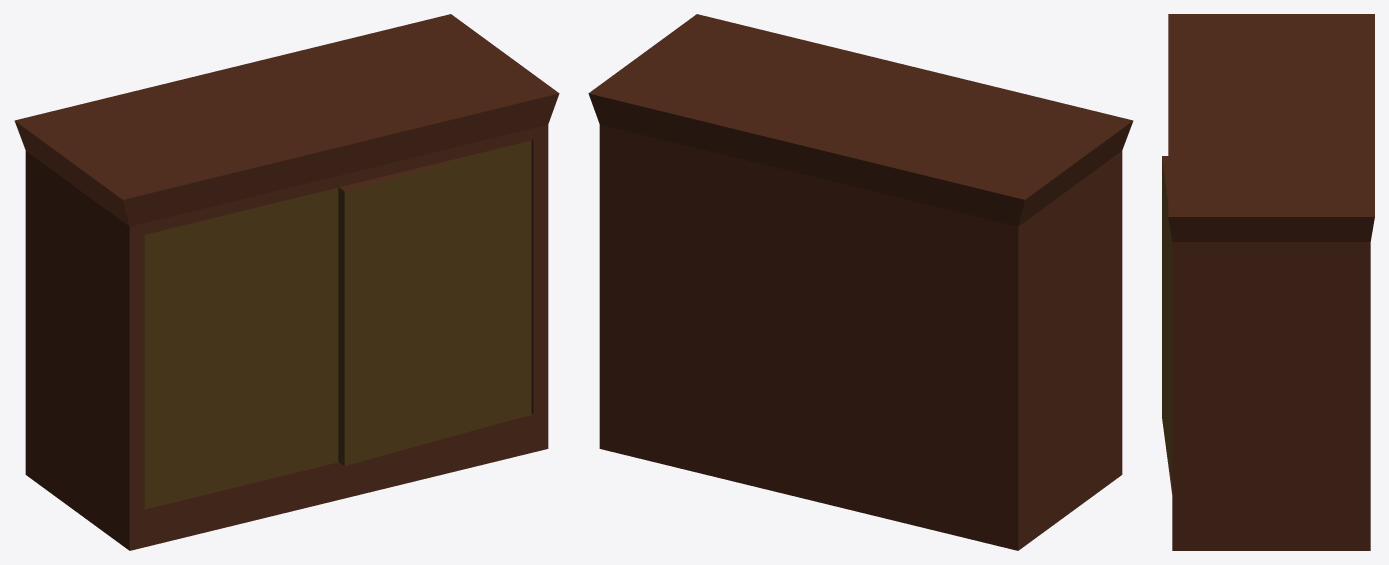
File: otherMobile.fbx
3 views of the same model, side by side, from view 1: azimuth 30°, elevation 25°; view 2: azimuth 150°, elevation 25°; view 3: azimuth 270°, elevation 25° (orthographic). The views are drawn at different scales.
Visible parts, largest first — view 1: MobileNew; view 2: MobileNew; view 3: MobileNew.
Boxes of the visible parts, <box> form: MobileNew: <box>14,14,559,550</box>; MobileNew: <box>588,14,1133,550</box>; MobileNew: <box>1162,14,1374,550</box>.
Size of the model in its own units: 533 by 414 by 236.
